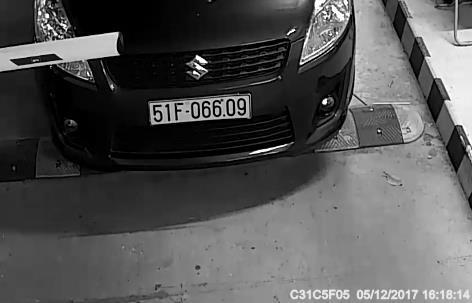License-plate: (141, 89, 258, 137)
